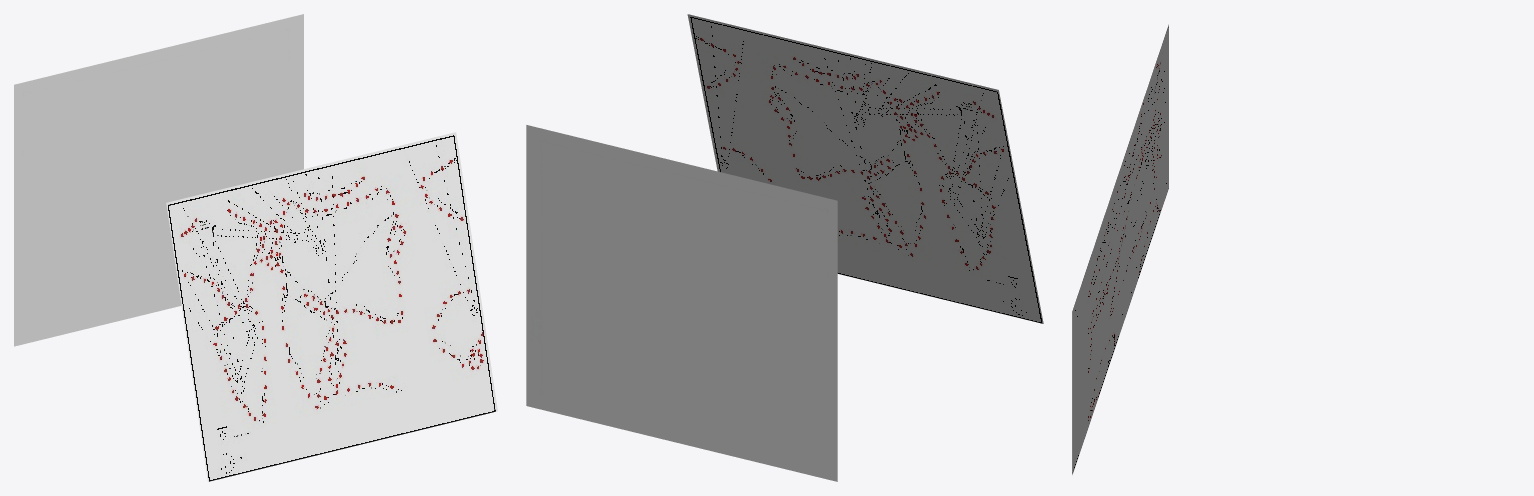
The model's file is Monarch vision.glb.
3 renders of one model, left to right at view 1: azimuth 30°, elevation 25°; view 2: azimuth 150°, elevation 25°; view 3: azimuth 270°, elevation 25°, orthographic. The views are drawn at different scales.
Parts seen in each view (by area): view 1: mesh_id29, mesh_id1; view 2: mesh_id1, mesh_id29; view 3: mesh_id29.
Part boxes in pixels (bbox=[...]): mesh_id29: bbox=[166, 132, 497, 481]; mesh_id1: bbox=[14, 14, 303, 346]; mesh_id1: bbox=[526, 125, 837, 481]; mesh_id29: bbox=[687, 14, 1043, 323]; mesh_id29: bbox=[1072, 24, 1168, 474].
Bounding box in the file's own units: 0.293 × 0.252 × 0.3364.
Materials: 2 (2 with a texture image).
